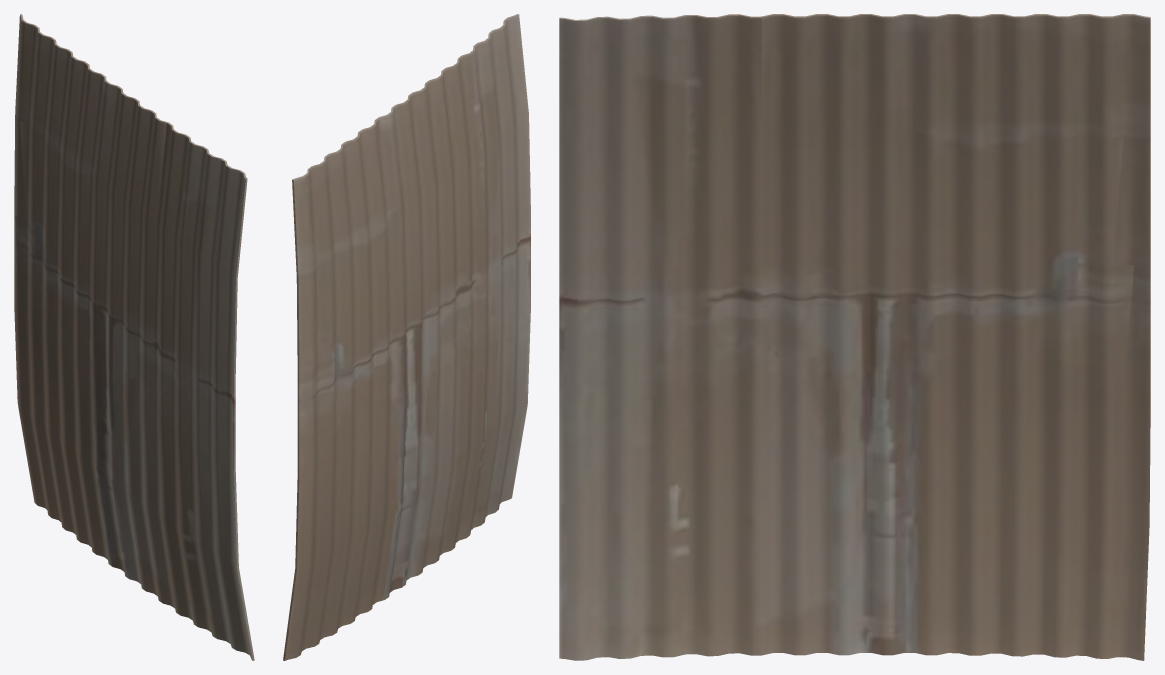
3 renders of one model, left to right at view 1: azimuth 30°, elevation 25°; view 2: azimuth 150°, elevation 25°; view 3: azimuth 270°, elevation 25°, orthographic. The views are drawn at different scales.
Visible parts, largest first — view 1: body0_model0_lod0_mesh0; view 2: body0_model0_lod0_mesh0; view 3: body0_model0_lod0_mesh0.
Boxes of the visible parts, x1,y1,x2,y2 form: body0_model0_lod0_mesh0: [14, 14, 254, 660]; body0_model0_lod0_mesh0: [283, 14, 530, 660]; body0_model0_lod0_mesh0: [559, 14, 1150, 660].
Size of the model in its own units: 8.48 by 128 by 108.
1 material, 1 textured.
